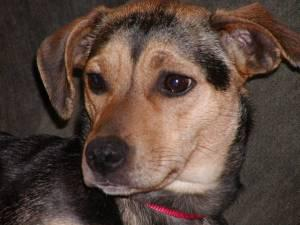dog: (35, 0, 299, 196)
